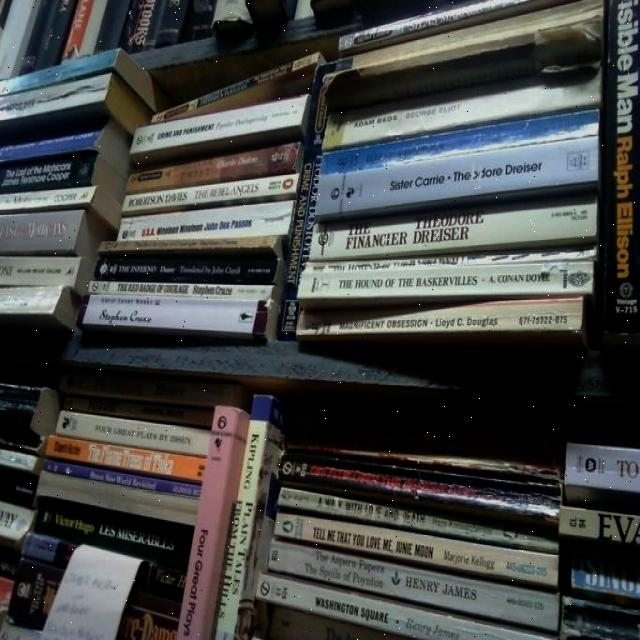book: (319, 76, 597, 156), (270, 512, 552, 588), (306, 198, 594, 264), (298, 294, 586, 348), (600, 4, 640, 344), (28, 495, 194, 571), (46, 408, 226, 464), (78, 294, 276, 344), (111, 200, 298, 246), (58, 368, 250, 408), (89, 252, 282, 286), (1, 151, 106, 201)
